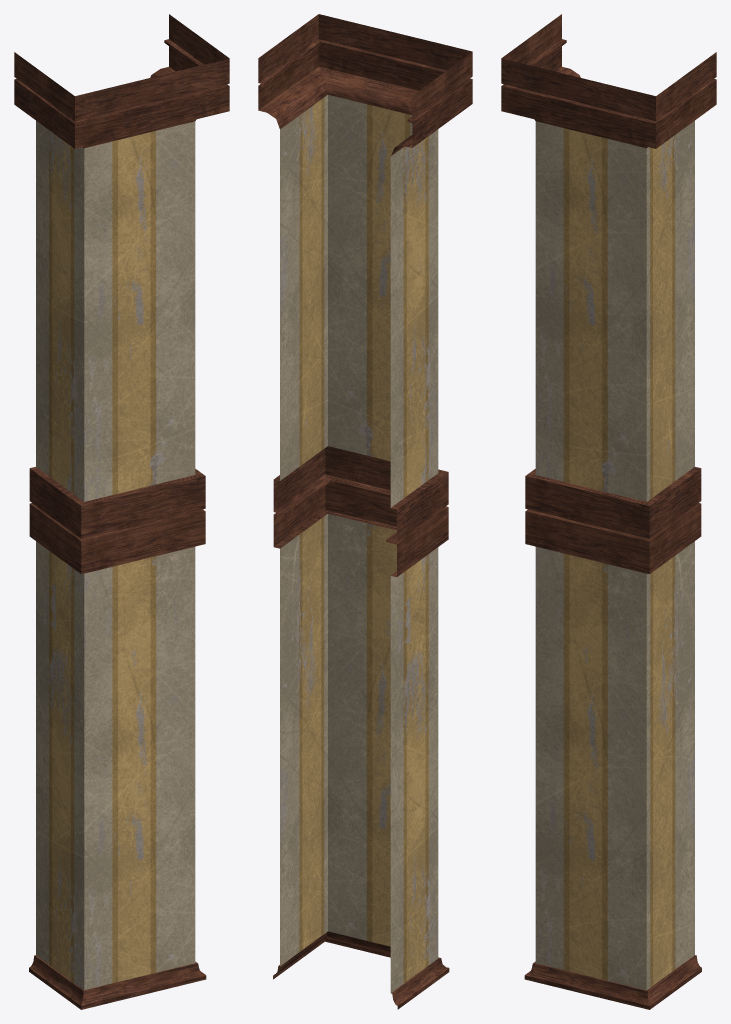
The model's file is SM_Beam_Wall.fbx.
The picture shows the model from 3 angles, left to right: view 1: azimuth 30°, elevation 25°; view 2: azimuth 150°, elevation 25°; view 3: azimuth 330°, elevation 25°; orthographic projection.
Visible parts, largest first — view 1: SM_Beam_Wallpaper; view 2: SM_Beam_Wallpaper; view 3: SM_Beam_Wallpaper.
Boxes of the visible parts, <box> form: SM_Beam_Wallpaper: <box>14,14,229,1009</box>; SM_Beam_Wallpaper: <box>258,14,472,1009</box>; SM_Beam_Wallpaper: <box>501,14,716,1009</box>.
Size of the model in its own units: 69.6 by 397 by 47.3.
